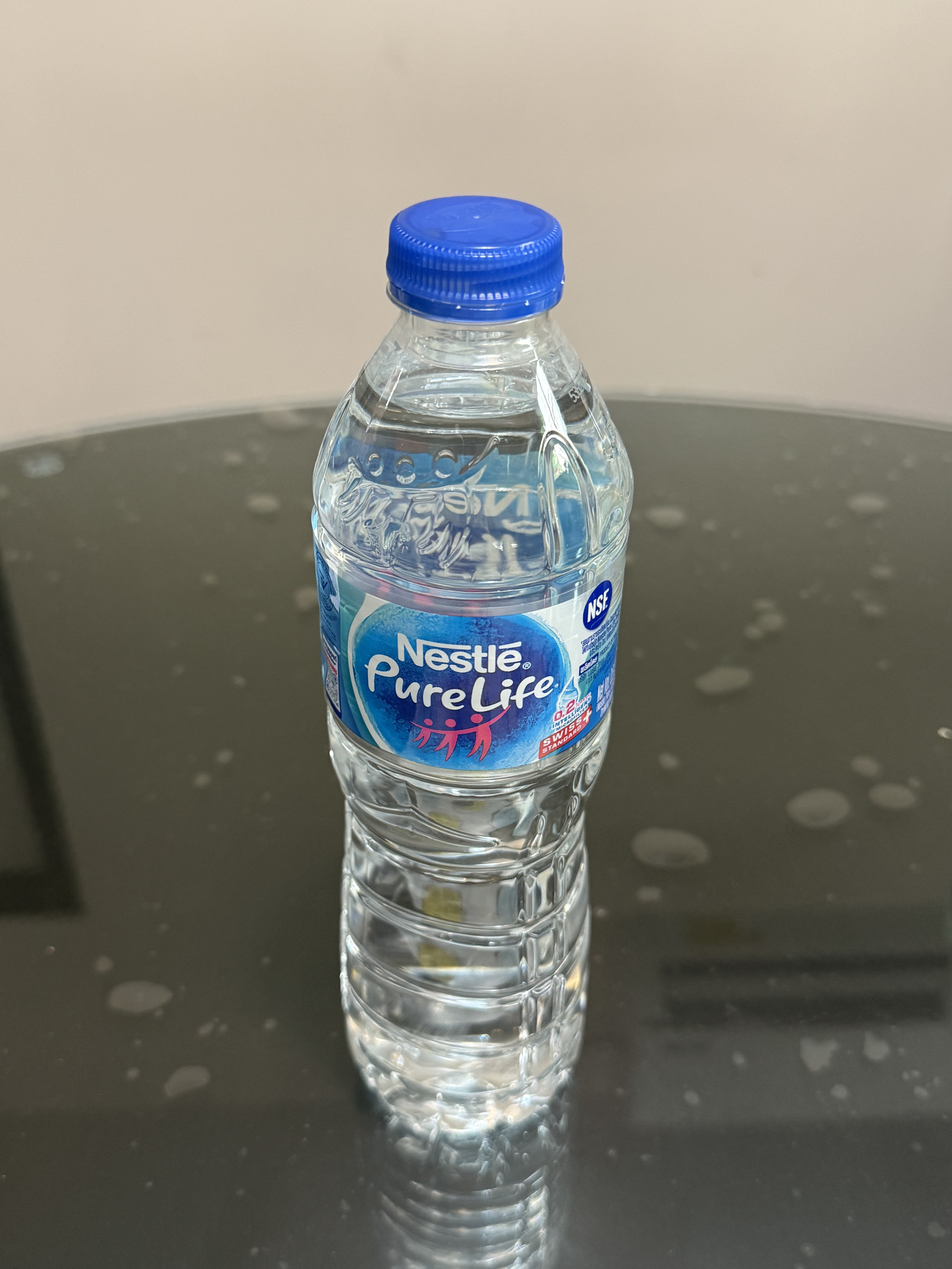closed_cap: (382, 190, 567, 323)
